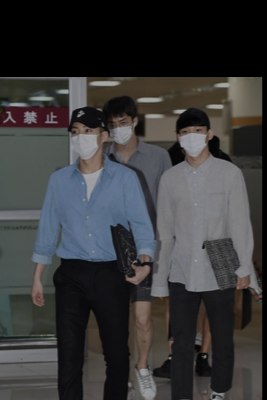with_mask: (70, 121, 101, 159), (179, 125, 208, 156), (107, 115, 135, 144)
